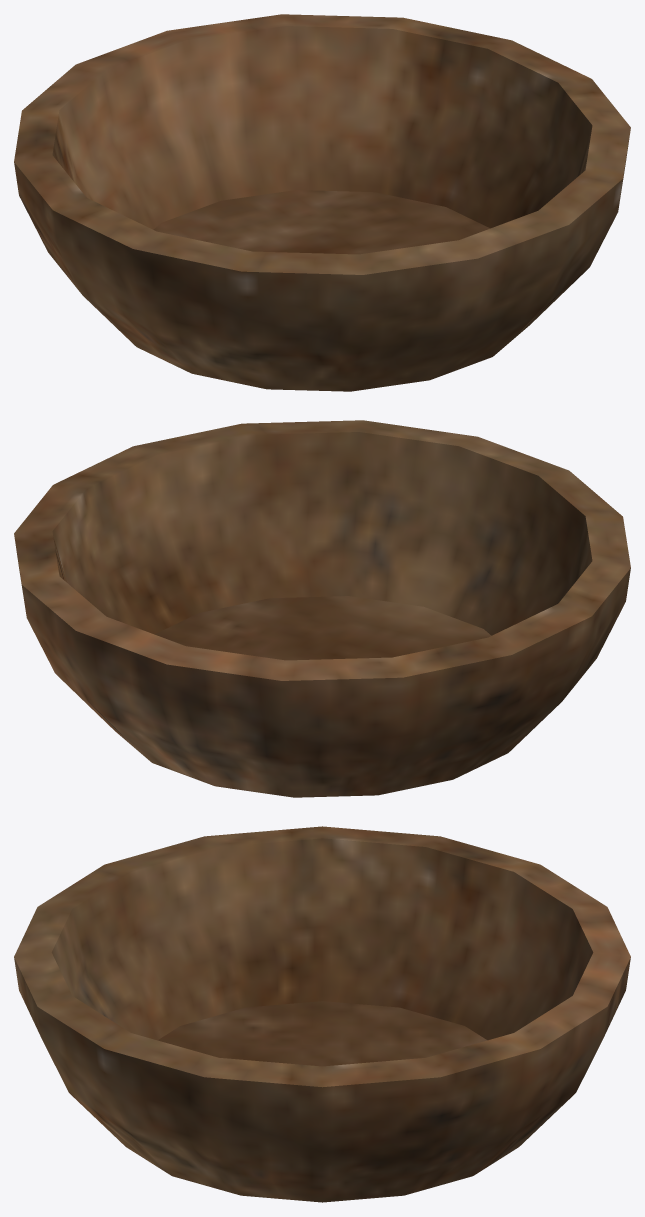
The model's file is village_dish_02.fbx.
3 views of the same model, one above another, from view 1: azimuth 30°, elevation 25°; view 2: azimuth 150°, elevation 25°; view 3: azimuth 270°, elevation 25° (orthographic).
Visible parts, largest first — view 1: village_dish_02; view 2: village_dish_02; view 3: village_dish_02.
Boxes of the visible parts, x1,y1,x2,y2 form: village_dish_02: (14,14,630,391); village_dish_02: (14,420,630,797); village_dish_02: (14,826,630,1202).
Size of the model in its own units: 28.76 by 8.23 by 28.76.
